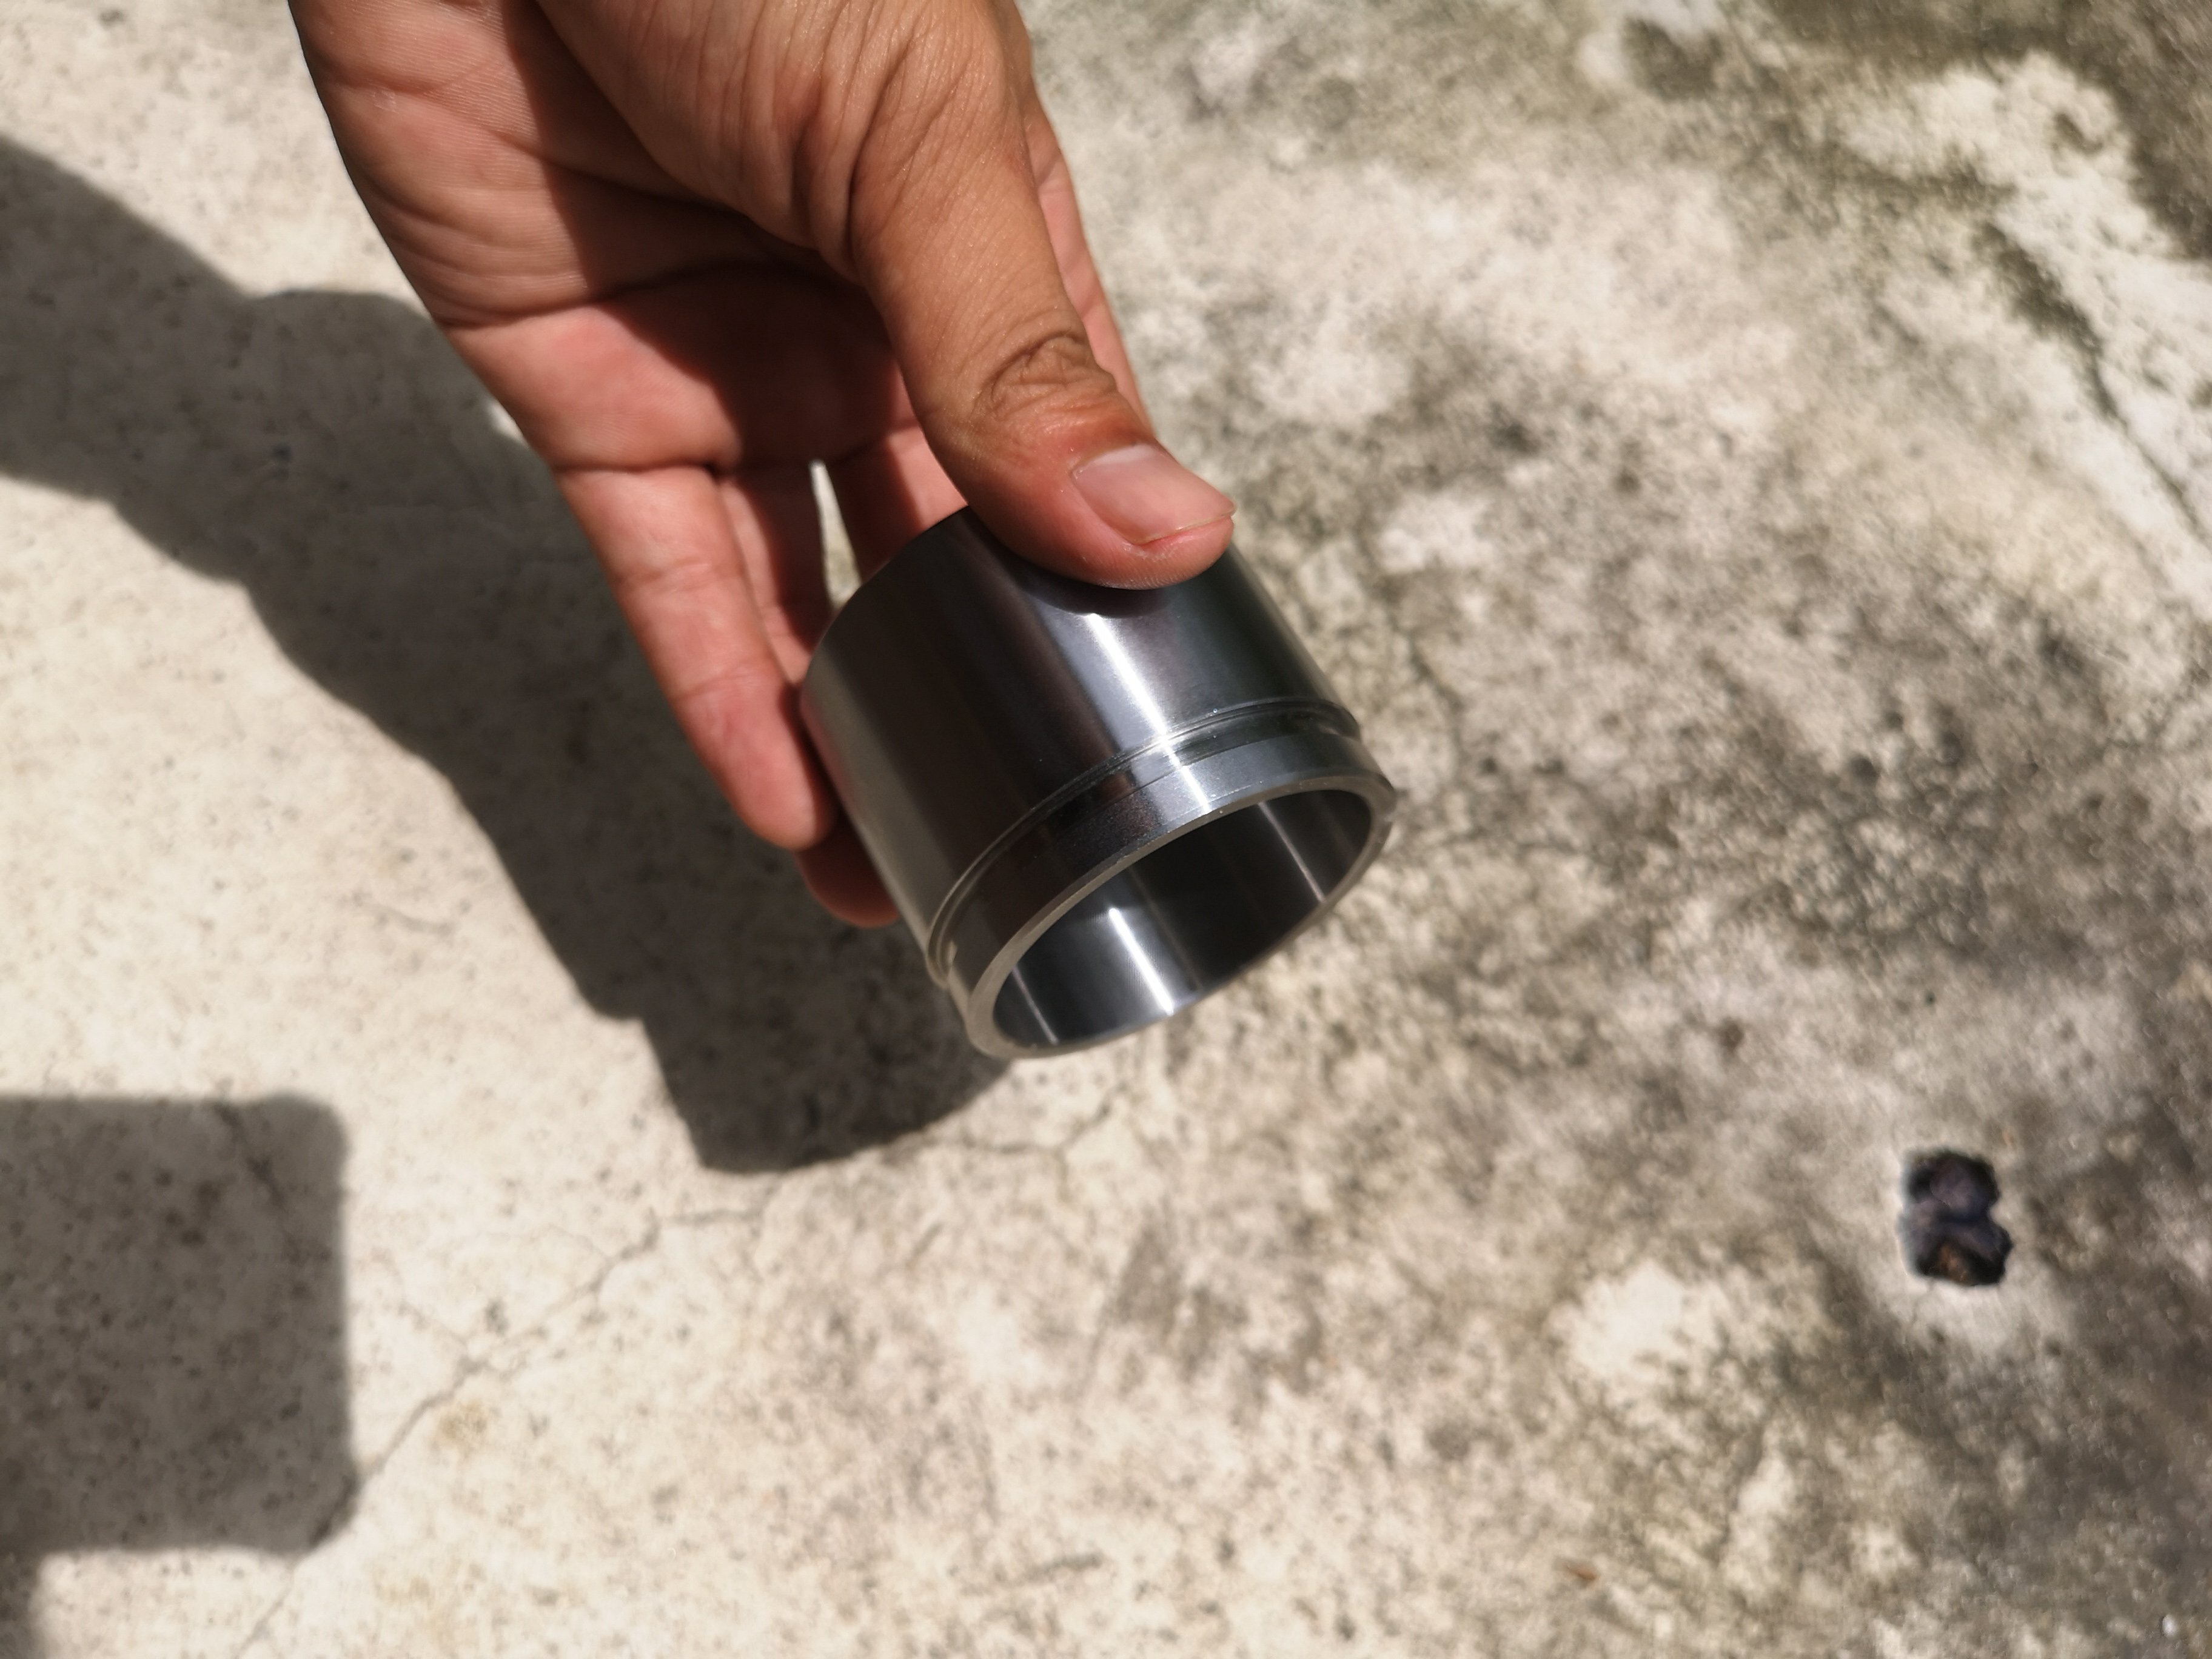ลูกสูบดิสเบรค: (718, 462, 1437, 1180)
